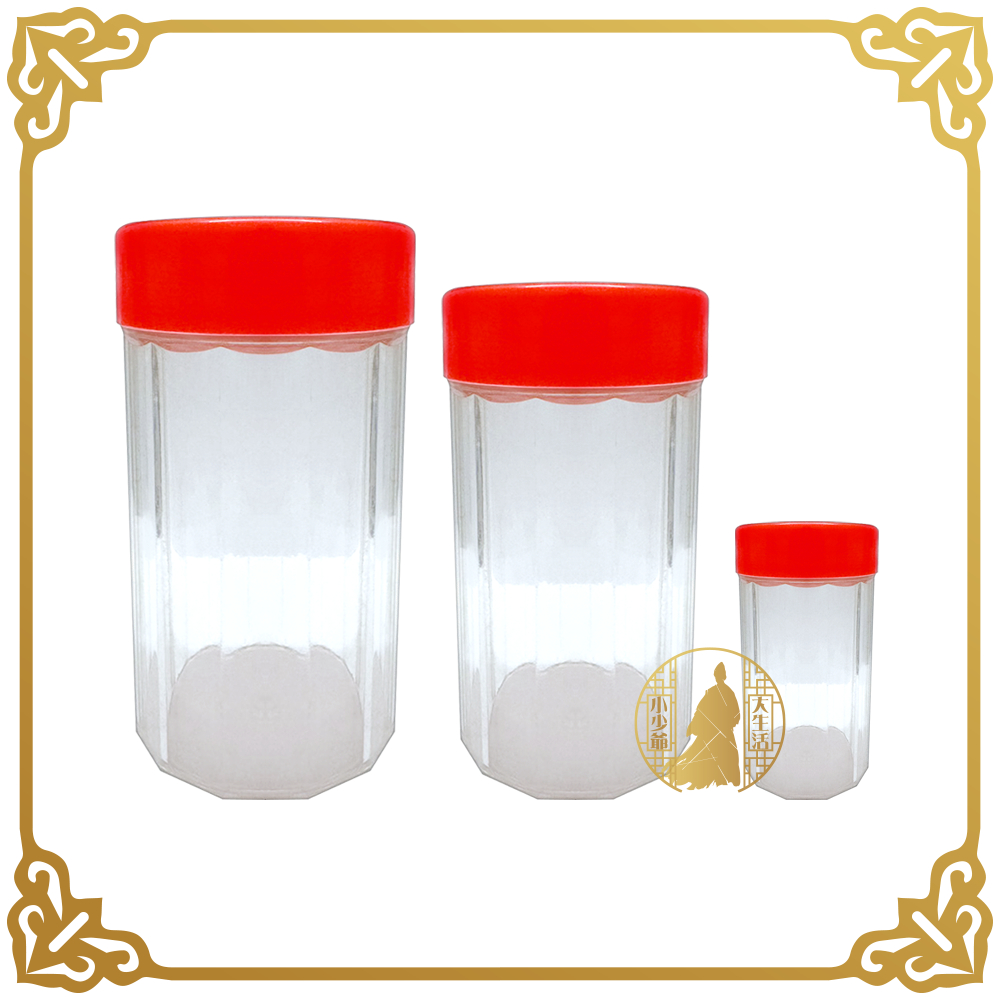medicinejar: (111, 213, 422, 797), (431, 282, 712, 808), (724, 505, 894, 813)
